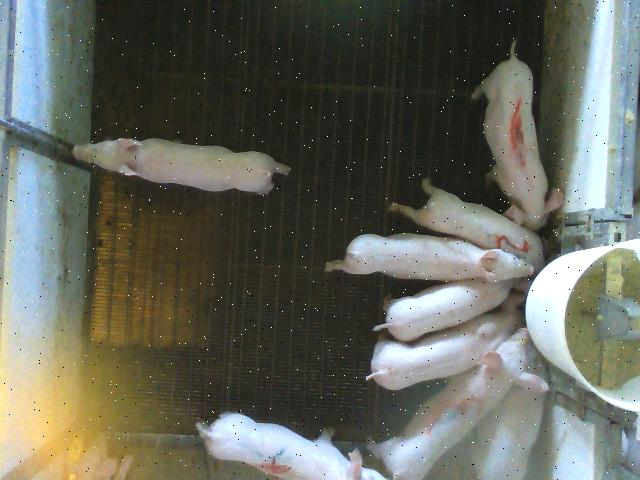pig-1: (471, 41, 564, 231)
pig-3: (370, 329, 548, 478)
pig-4: (196, 412, 385, 479)
pig-5: (389, 178, 545, 273)
